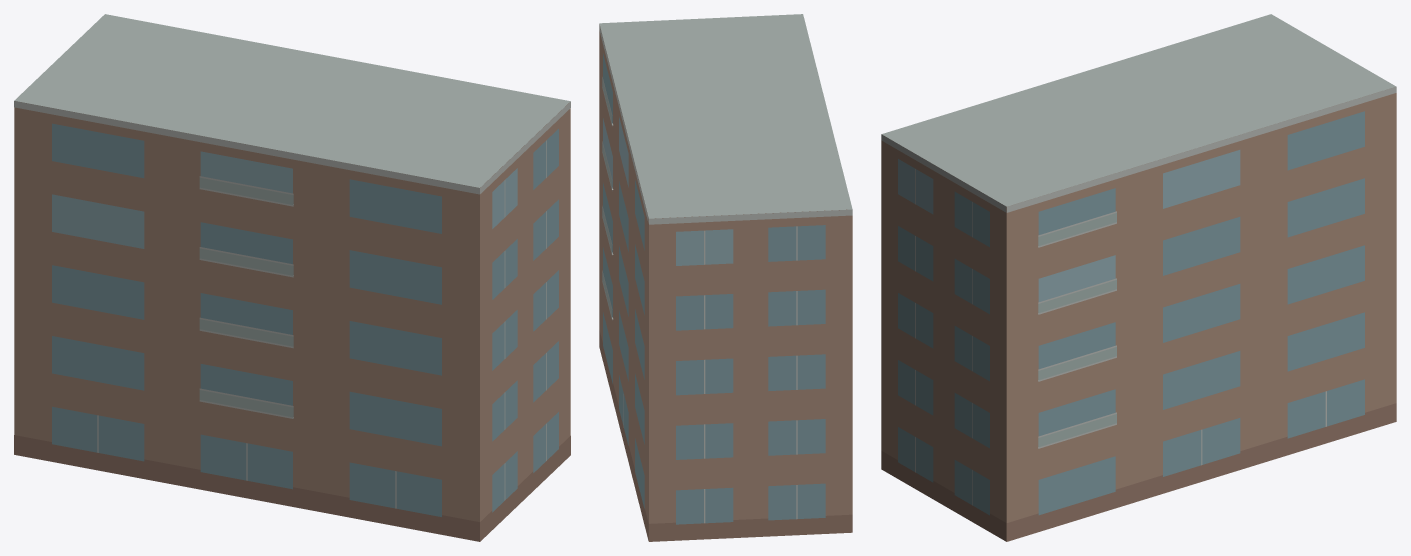
Rendered from survey-upis-32693657.glb.
The picture shows the model from 3 angles, left to right: view 1: azimuth 30°, elevation 25°; view 2: azimuth 150°, elevation 25°; view 3: azimuth 270°, elevation 25°; orthographic projection. The views are drawn at different scales.
Visible parts, largest first — view 1: survey-upis-32693657.tmp; view 2: survey-upis-32693657.tmp; view 3: survey-upis-32693657.tmp.
Part boxes in pixels (x1,y1,x2,y2): survey-upis-32693657.tmp: (14, 14, 570, 541); survey-upis-32693657.tmp: (599, 14, 852, 541); survey-upis-32693657.tmp: (881, 14, 1396, 541).
Size of the model in its own units: 16.16 by 13.1 by 18.25.
